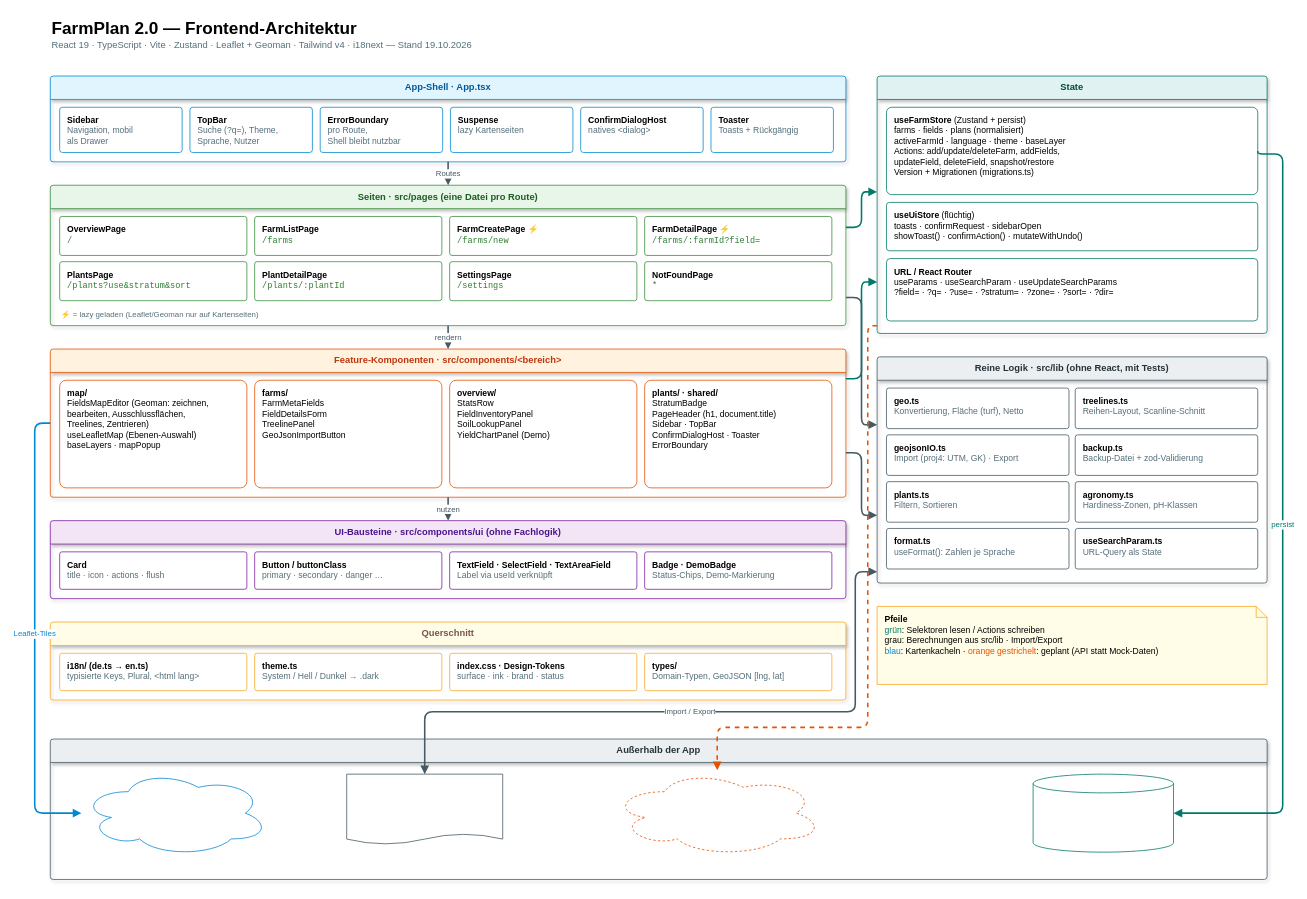
Image size: 1307x899. Some labels were removed from this diagram. Each missing label, with the centre of its shape:
"Dateien GeoJSON (Import/Export) Backup-JSON" goes at pixel 424 808.
"FastAPI-Backend /api → localhost:8000 Daten · Pflanzenbilder · Optimizer" goes at pixel 717 812.
"Kachel-Server OSM · Esri Luftbild OpenTopoMap · Esri Labels" goes at pixel 175 812.
"localStorage farmplan-storage" goes at pixel 1103 812.
